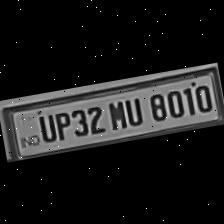0: (159, 86, 185, 119), (192, 80, 217, 113)
1: (181, 80, 199, 117)
2: (84, 101, 106, 135)
3: (67, 104, 89, 138)
8: (143, 89, 168, 124)
M: (103, 97, 127, 132)
P: (50, 108, 73, 142)
U: (120, 94, 146, 128), (34, 110, 57, 144)
